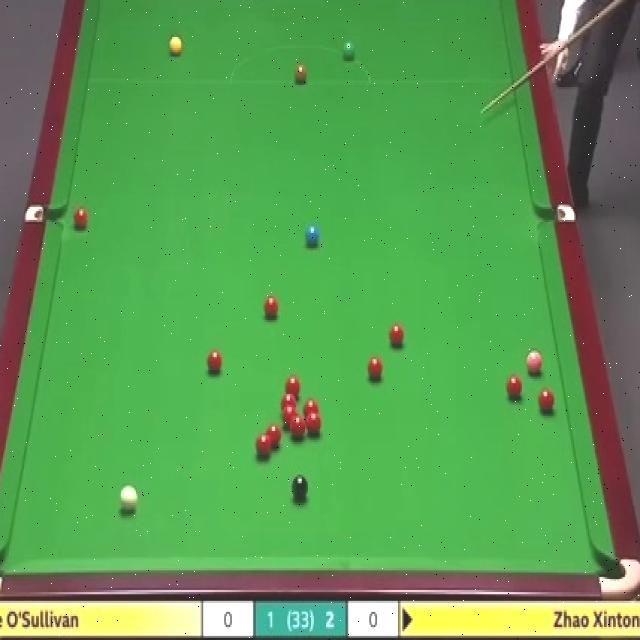black-ball: (291, 472, 309, 504)
blue-ball: (304, 223, 321, 246)
brown-ball: (294, 63, 308, 85)
green-ball: (341, 41, 356, 62)
pink-ball: (526, 348, 543, 376)
red-ball: (206, 348, 224, 378), (264, 422, 282, 452), (538, 389, 557, 414), (508, 375, 526, 401), (255, 431, 272, 458), (366, 356, 383, 383), (390, 322, 406, 349), (306, 412, 322, 438), (263, 296, 280, 320), (72, 208, 90, 230), (291, 415, 305, 439), (284, 376, 302, 394), (282, 407, 297, 427), (281, 392, 296, 410), (304, 401, 318, 416)
white-ball: (119, 484, 138, 511)
yellow-ball: (169, 36, 184, 58)
